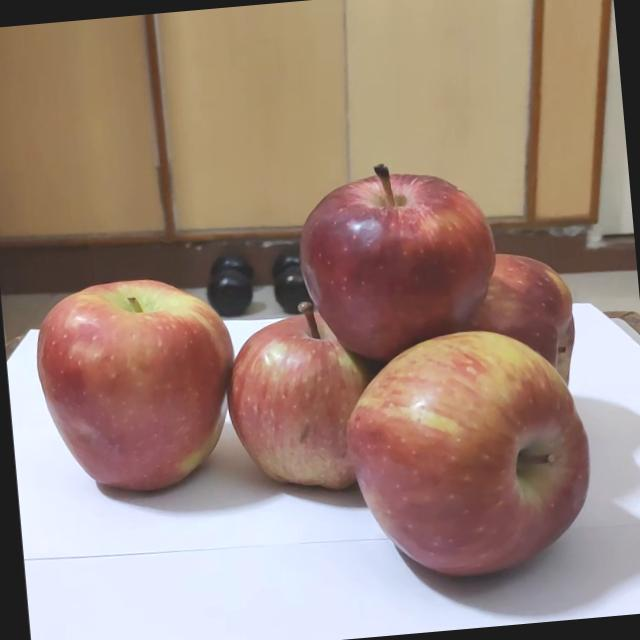apple: (286, 336, 576, 626), (22, 264, 266, 518), (387, 252, 613, 480), (271, 164, 491, 398), (206, 301, 394, 527)
